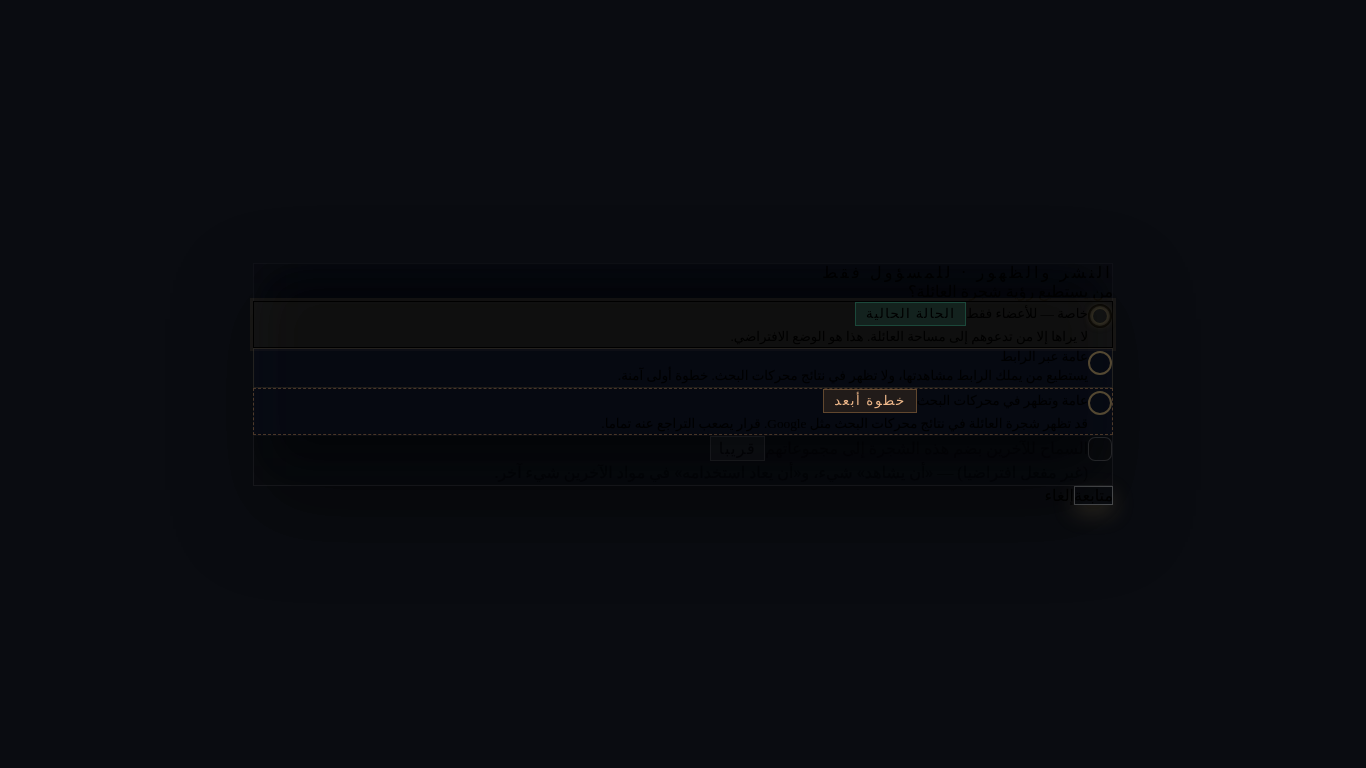
it: publish flow — «المصادر في الشجرة المنشورة» › asks with the counts, and «لا شيء» is the default
The width and height of the screenshot is (1366, 768).
Click the text "عامة عبر الرابط" at (1044, 357), box x1=1000 y1=349 x2=1088 y2=364
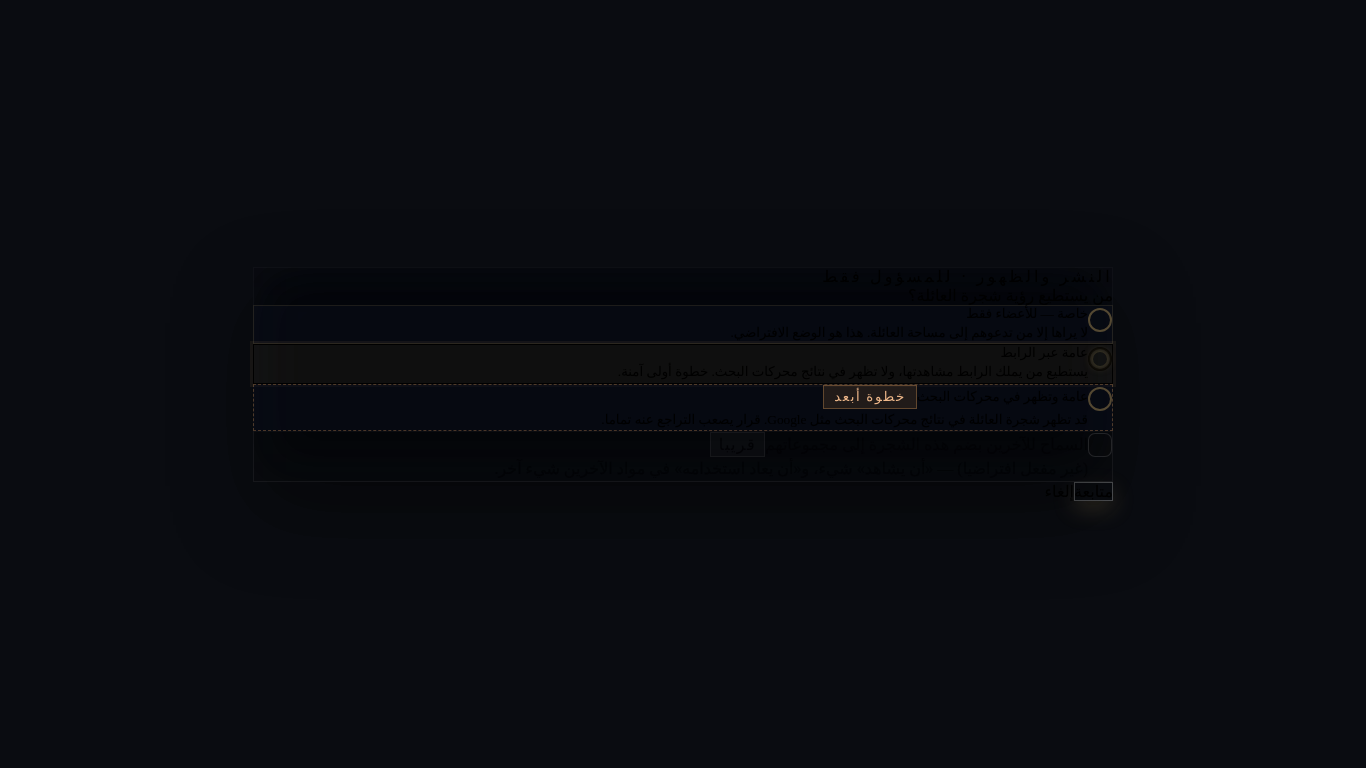
Click the button "متابعة" at (1094, 492), box x1=1074 y1=482 x2=1113 y2=501
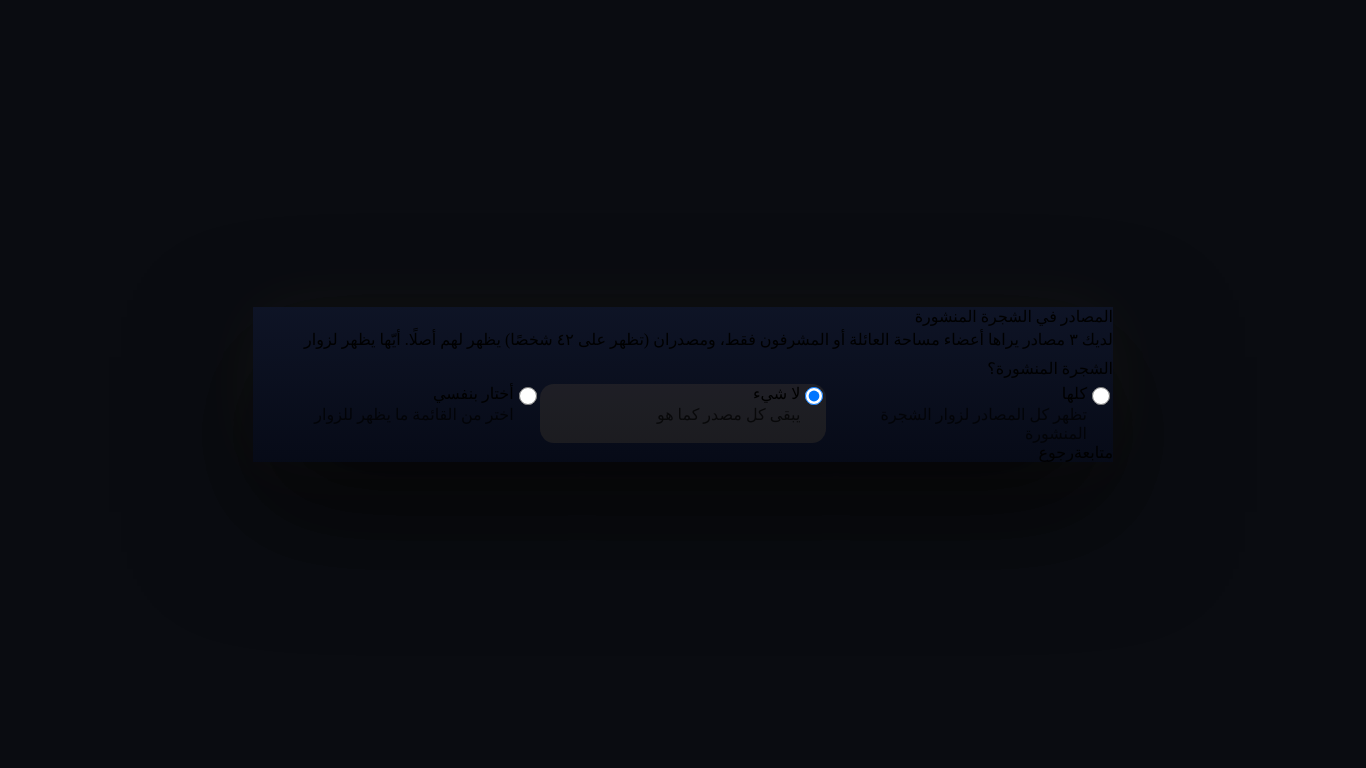
Expected: the text "المصادر في الشجرة المنشورة" shows "لديك ٣ مصادر يراها أعضاء مساحة العائلة أو المشرفون فقط", x1=253 y1=307 x2=1113 y2=461
Expected: the text "المصادر في الشجرة المنشورة" shows "ومصدران (تظهر على ٤٢ شخصًا) يظهر لهم أصلًا", x1=253 y1=307 x2=1113 y2=461
Expected: the radio button labelled "لا شيء" is checked, x1=805 y1=386 x2=823 y2=404
